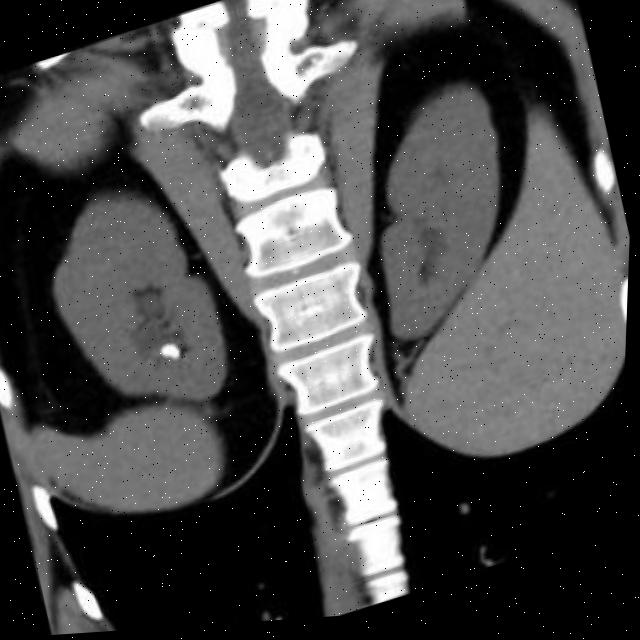Tas_Var: (158, 341, 184, 368)
